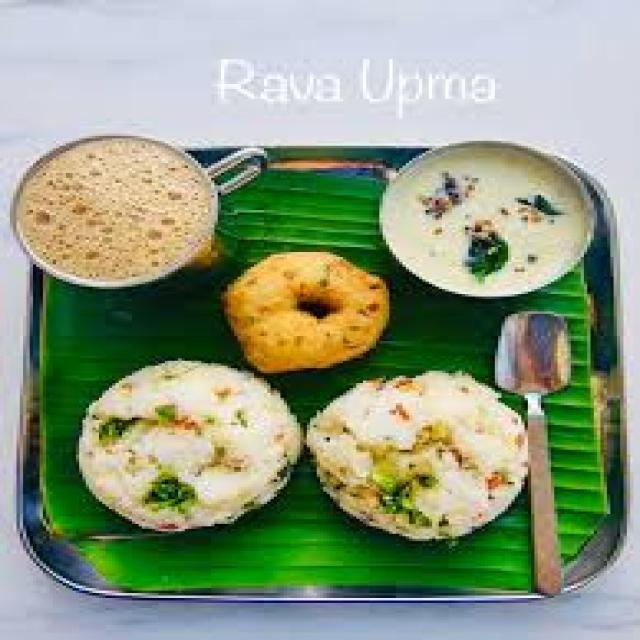UPMA: (79, 361, 300, 529), (310, 371, 521, 536)
